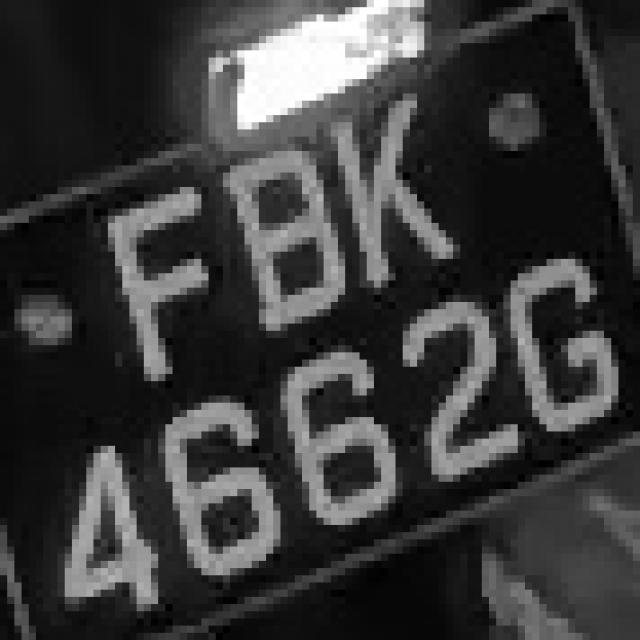2: (388, 302, 525, 503)
4: (21, 431, 172, 640)
6: (151, 381, 288, 597), (273, 338, 410, 525)
B: (216, 122, 352, 331)
F: (79, 180, 252, 395)
G: (482, 252, 633, 453)
K: (331, 72, 460, 288)
